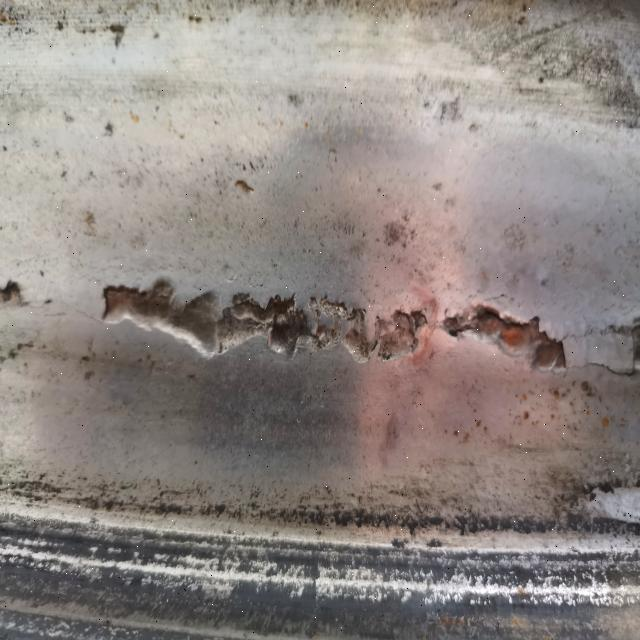boli: (82, 271, 422, 369), (442, 270, 570, 378)
